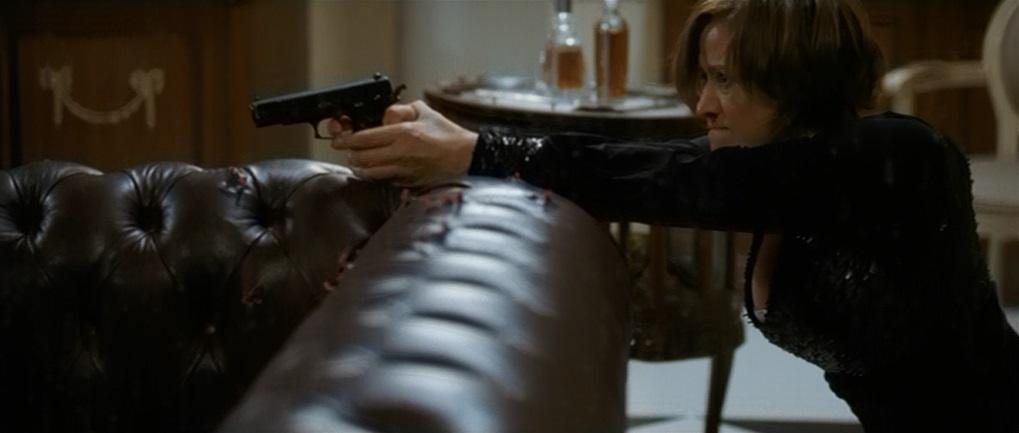gun: (247, 76, 410, 170)
